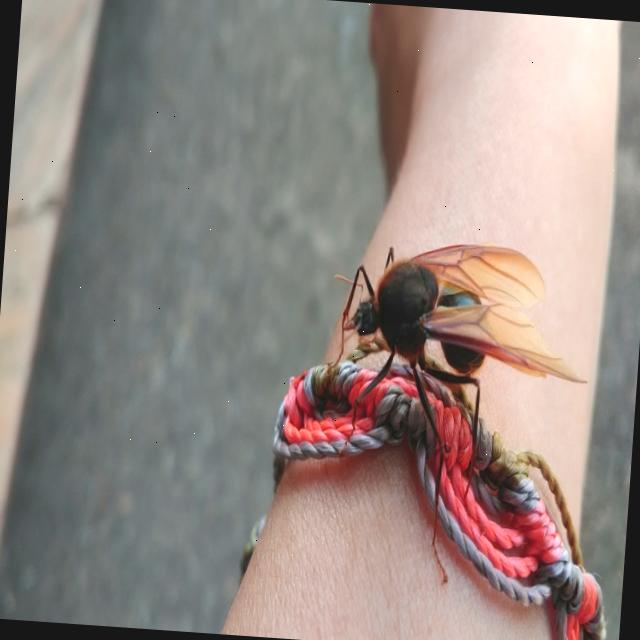Alive-Male-Alate: (312, 232, 597, 594)
